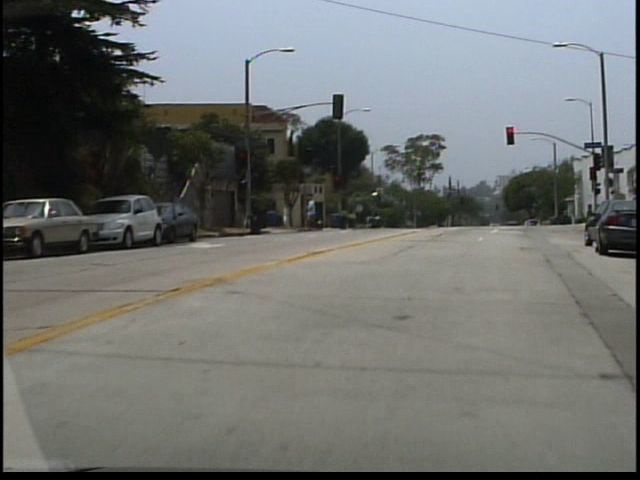person: (310, 198, 323, 234), (287, 203, 296, 232)
